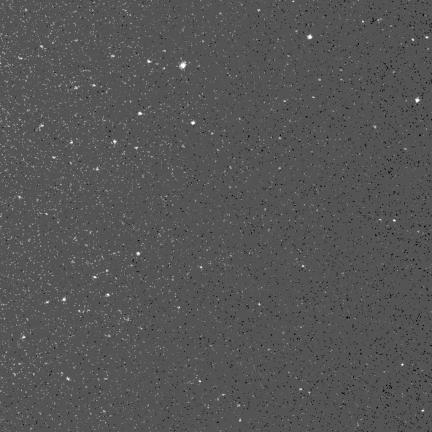blob: (307, 35, 313, 39), (136, 252, 140, 256), (191, 121, 195, 125), (138, 112, 142, 115)
